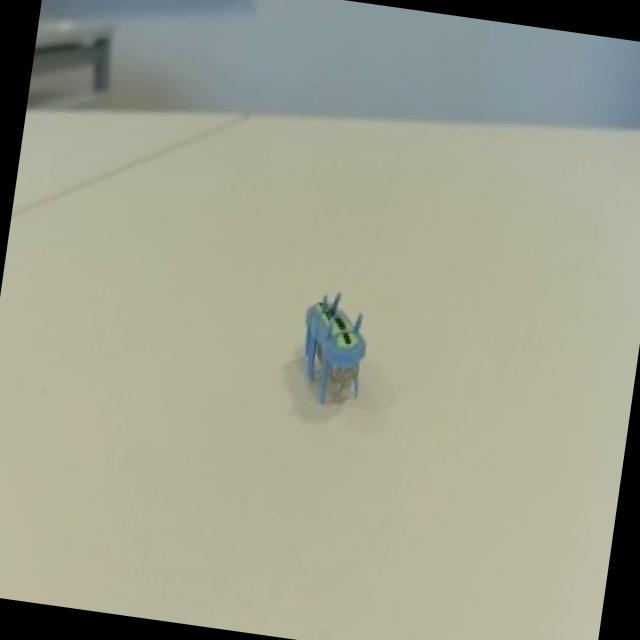3_NanoBug_Celeste: (270, 264, 392, 432)
